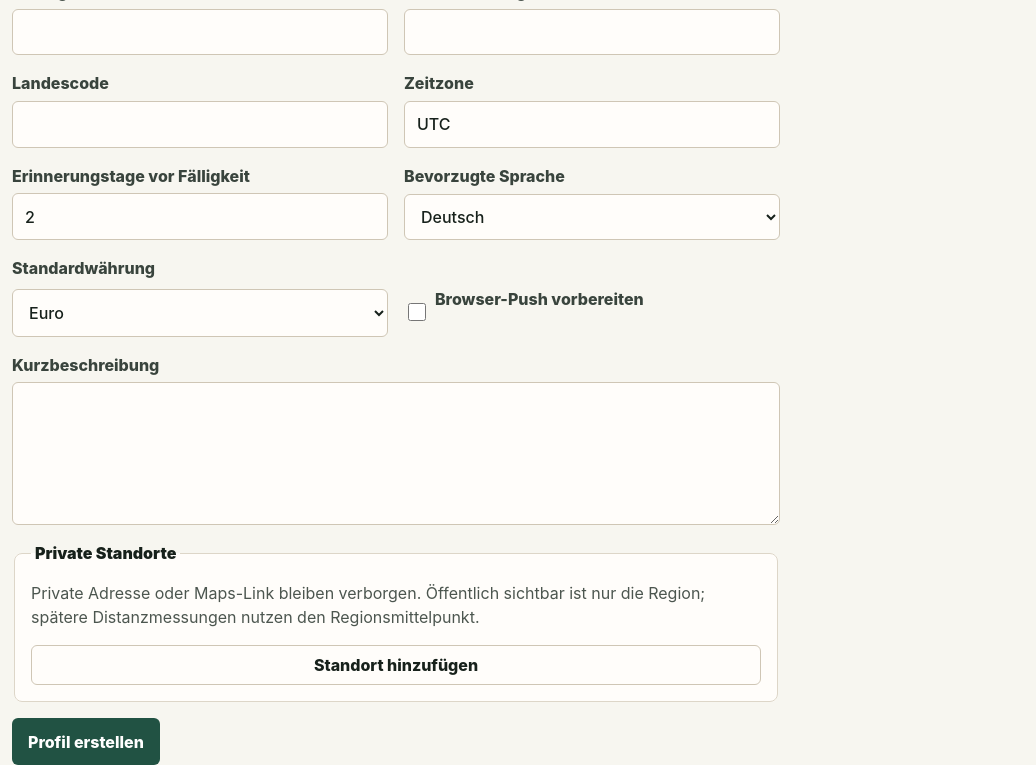
ProfileForm › shows field-level validation errors before submitting invalid data
(page scrolled)
Click the button "Profil erstellen": (86, 742) x1=12 y1=718 x2=160 y2=764
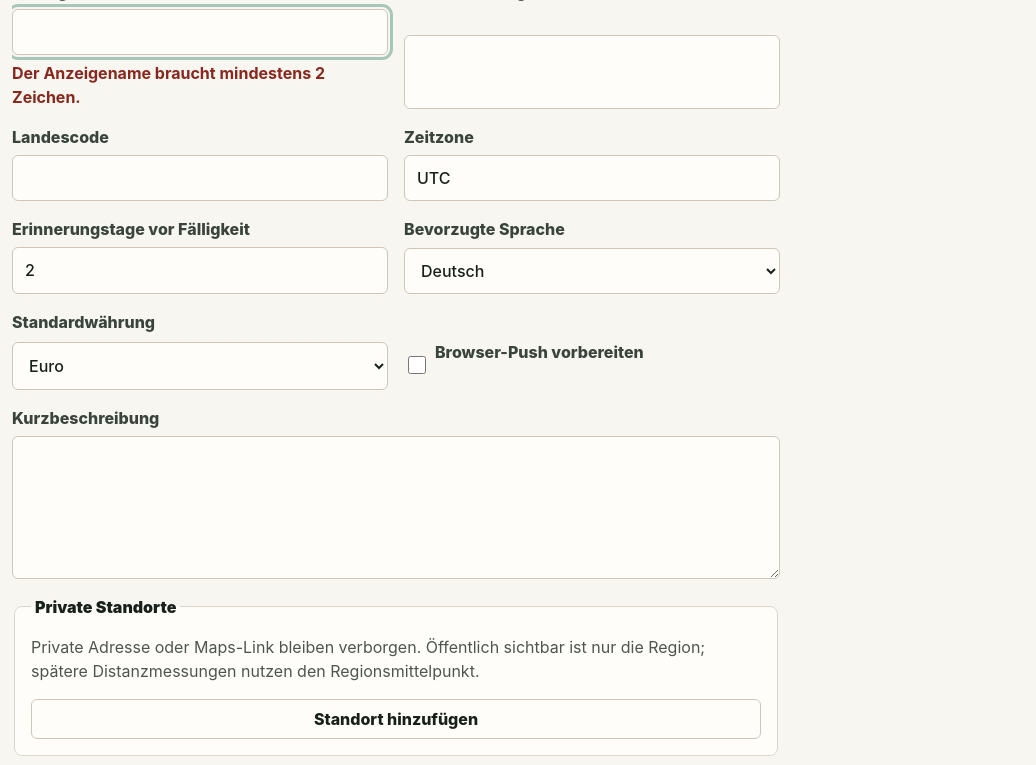
Result: the text "Der Anzeigename braucht mindestens 2 Zeichen." is shown at x1=12 y1=63 x2=325 y2=107
